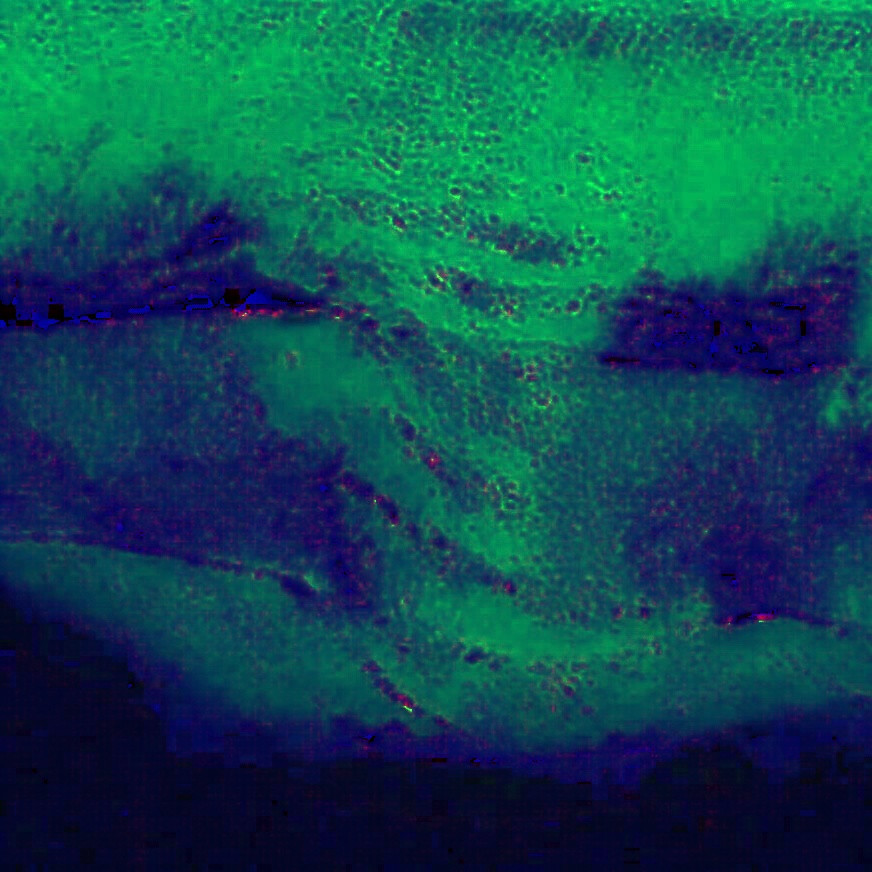rip_current: (238, 165, 738, 727)
